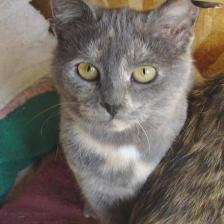cat: (37, 3, 204, 137)
